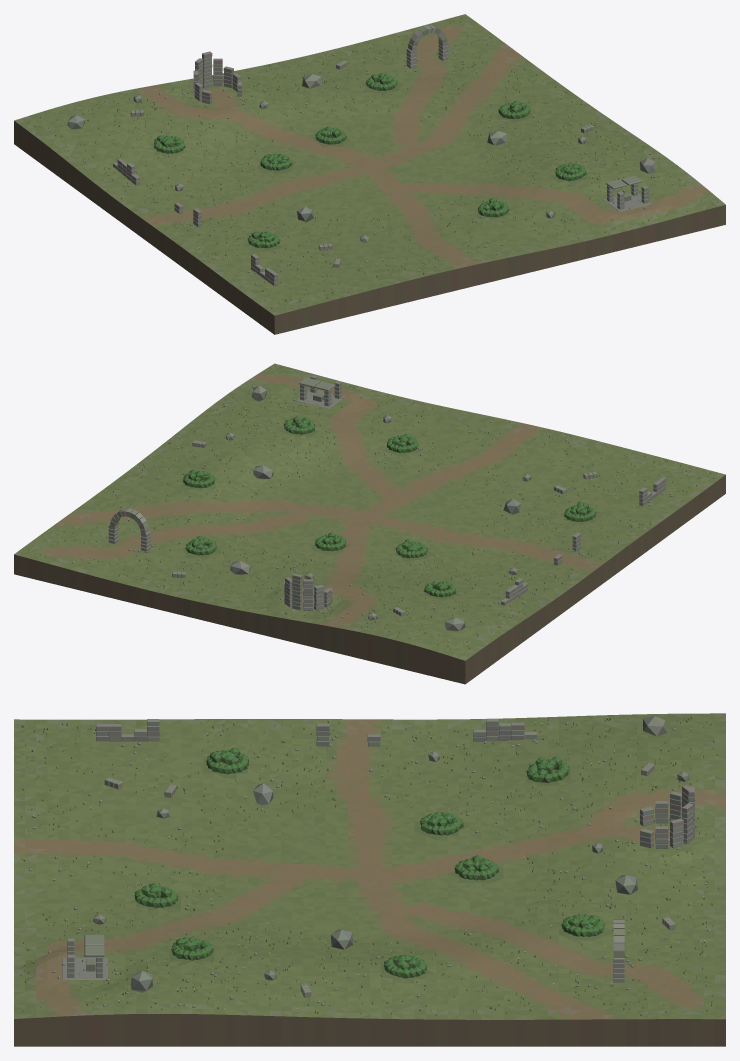
File: battlefield.glb
3 views of the same model, one above another, from view 1: azimuth 30°, elevation 25°; view 2: azimuth 150°, elevation 25°; view 3: azimuth 270°, elevation 25° (orthographic). The views are drawn at different scales.
Parts seen in each view (by area): view 1: SM_Battlefield_Terrain_100m; view 2: SM_Battlefield_Terrain_100m; view 3: SM_Battlefield_Terrain_100m, SM_Shrine_SE_Foundation.
Boxes of the visible parts, <box> form: SM_Battlefield_Terrain_100m: <box>14,14,725,334</box>; SM_Battlefield_Terrain_100m: <box>14,363,725,684</box>; SM_Battlefield_Terrain_100m: <box>14,713,725,1046</box>; SM_Shrine_SE_Foundation: <box>62,957,107,979</box>.
Size of what is drawn, in the model's own units: 100 by 11.88 by 100.
